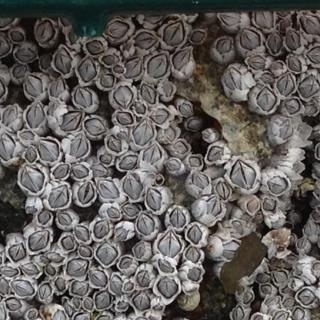Barnacle: (230, 161, 255, 191), (20, 165, 44, 193), (157, 231, 181, 259), (162, 21, 186, 47), (131, 119, 153, 147), (222, 66, 244, 91), (256, 88, 277, 114), (96, 241, 116, 268), (238, 28, 260, 52), (147, 53, 168, 78), (122, 174, 141, 201), (38, 140, 60, 163), (68, 133, 88, 158), (48, 184, 68, 209), (54, 49, 73, 75), (156, 277, 177, 300), (26, 103, 45, 128), (298, 76, 319, 98), (60, 110, 81, 132), (27, 231, 49, 252), (66, 258, 88, 279), (133, 31, 156, 51), (77, 59, 96, 83), (112, 85, 131, 109), (73, 86, 92, 110), (266, 175, 288, 195), (219, 242, 241, 262), (76, 182, 95, 205), (36, 20, 53, 45), (24, 75, 43, 97), (96, 180, 118, 199), (254, 9, 274, 29), (142, 145, 163, 164), (301, 14, 319, 36), (124, 56, 142, 78), (277, 74, 294, 97), (83, 118, 106, 135), (91, 220, 110, 240), (7, 244, 27, 263), (172, 51, 190, 72), (106, 21, 128, 38), (137, 214, 154, 236), (10, 280, 33, 296), (139, 84, 156, 105), (146, 189, 161, 212), (133, 292, 151, 311), (285, 31, 301, 52), (220, 13, 243, 27), (49, 80, 65, 100), (118, 155, 138, 171), (15, 47, 36, 62), (0, 135, 12, 161), (268, 33, 282, 55), (89, 270, 106, 288), (2, 107, 18, 126), (279, 120, 294, 140), (205, 197, 220, 217), (71, 280, 88, 297), (286, 56, 302, 74), (284, 98, 300, 116), (150, 109, 168, 125), (191, 172, 207, 190), (170, 209, 185, 228), (96, 292, 111, 311), (109, 277, 123, 297), (98, 74, 115, 90), (207, 146, 223, 163), (298, 289, 315, 305), (106, 135, 121, 153), (121, 202, 139, 217), (188, 226, 201, 246), (53, 164, 68, 180), (185, 247, 199, 264), (136, 270, 150, 287), (248, 57, 266, 70), (216, 183, 229, 201), (217, 38, 231, 54), (87, 41, 103, 55), (116, 112, 132, 126), (74, 226, 88, 242), (306, 47, 319, 64), (0, 35, 10, 57), (66, 28, 78, 46), (21, 264, 39, 276), (159, 260, 174, 274), (0, 15, 16, 28), (46, 103, 59, 119), (165, 160, 182, 172), (91, 165, 108, 177), (71, 166, 88, 178), (305, 220, 317, 237), (271, 271, 288, 283), (39, 284, 51, 301), (62, 300, 74, 317), (12, 65, 26, 79), (173, 142, 188, 155), (58, 214, 73, 227), (61, 236, 74, 251), (187, 267, 200, 282), (24, 147, 36, 163), (291, 157, 303, 173), (115, 226, 127, 242), (101, 54, 118, 65), (162, 81, 173, 98), (134, 242, 145, 259), (230, 222, 244, 235), (6, 298, 20, 311), (231, 306, 245, 319), (247, 199, 259, 214), (106, 207, 121, 219), (265, 296, 280, 308), (38, 212, 51, 225), (186, 118, 200, 130), (303, 105, 318, 116), (165, 128, 176, 143), (41, 54, 51, 70), (270, 61, 283, 73), (178, 104, 191, 116), (78, 246, 91, 258), (9, 31, 23, 42), (188, 157, 202, 168), (0, 268, 17, 277), (18, 131, 34, 140), (0, 279, 9, 295), (278, 20, 289, 33), (190, 31, 203, 42), (270, 312, 290, 319), (119, 258, 131, 269), (45, 265, 56, 277), (260, 74, 273, 84), (255, 273, 269, 282), (56, 279, 65, 293), (52, 310, 66, 319), (134, 104, 146, 114), (49, 254, 62, 263), (311, 165, 319, 179), (281, 300, 295, 308), (115, 300, 126, 310), (123, 282, 133, 292), (83, 300, 93, 310), (27, 309, 37, 319), (293, 309, 303, 319), (112, 65, 123, 74), (100, 155, 111, 164), (25, 207, 36, 216), (260, 286, 271, 295), (243, 293, 252, 304), (297, 240, 306, 249), (300, 128, 307, 138), (314, 184, 319, 197), (313, 263, 319, 271)
